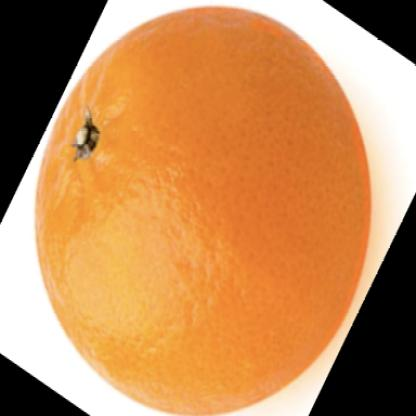fresh: (36, 5, 371, 413)
